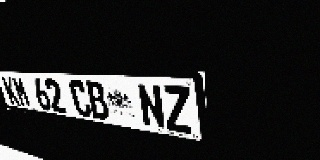2: (43, 78, 67, 114)
6: (31, 78, 53, 111)
B: (84, 81, 111, 121)
C: (68, 80, 93, 118)
K: (1, 76, 21, 106)
M: (11, 77, 32, 108)
N: (136, 83, 166, 130)
Z: (161, 85, 193, 134)
